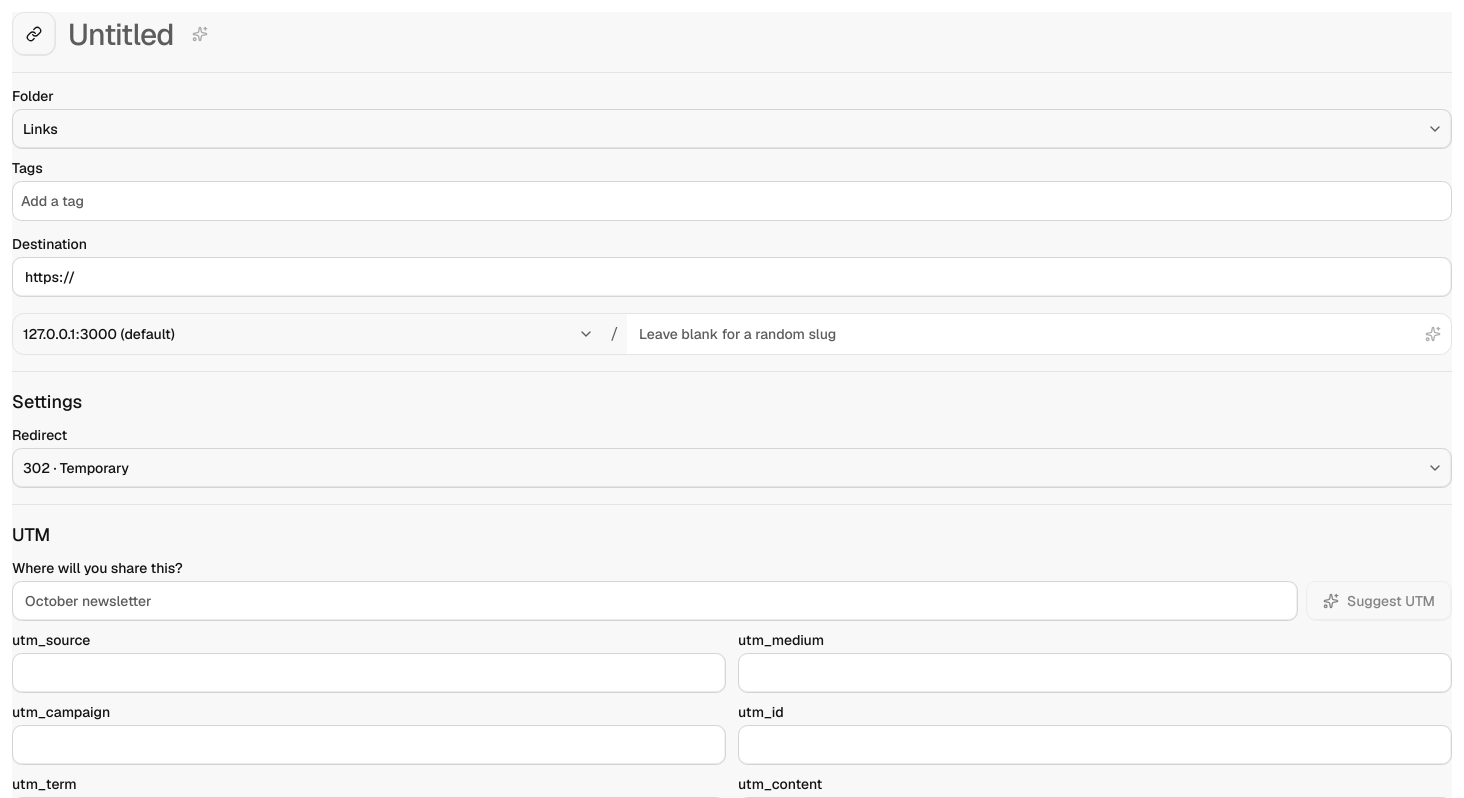
Test case: link editor suggestions › suggests a title from the sparkle beside the heading when AI is on
The width and height of the screenshot is (1464, 798).
Expected: the button named "Suggest a title" is disabled, [186,20,214,48]
Replace the text in the field labelled "Destination" with "https://example.org": [732, 277] box [12,257,1452,297]
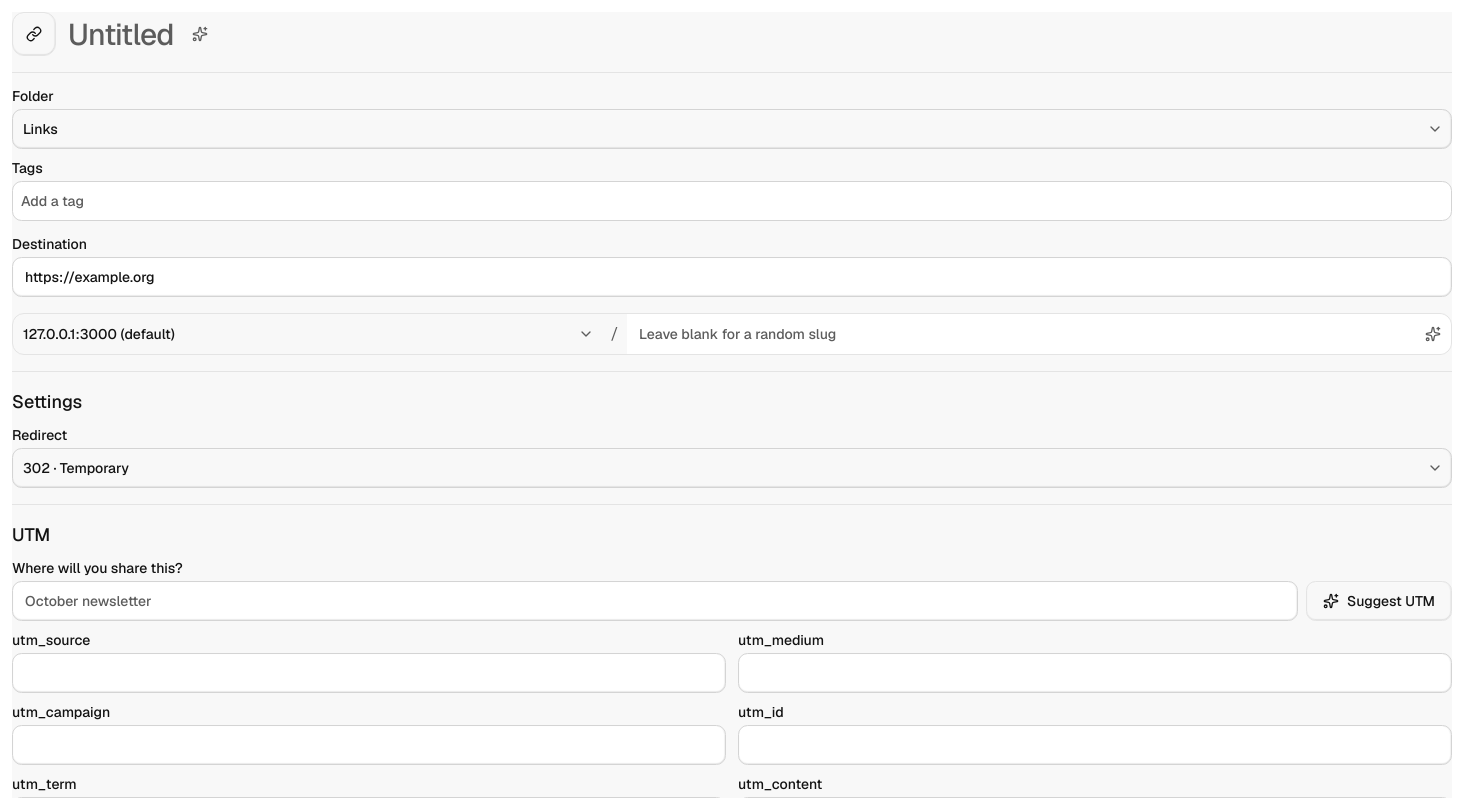
Expected: the button named "Suggest a title" is enabled
Click the button named "Suggest a title": [200, 34] box [186,20,214,48]
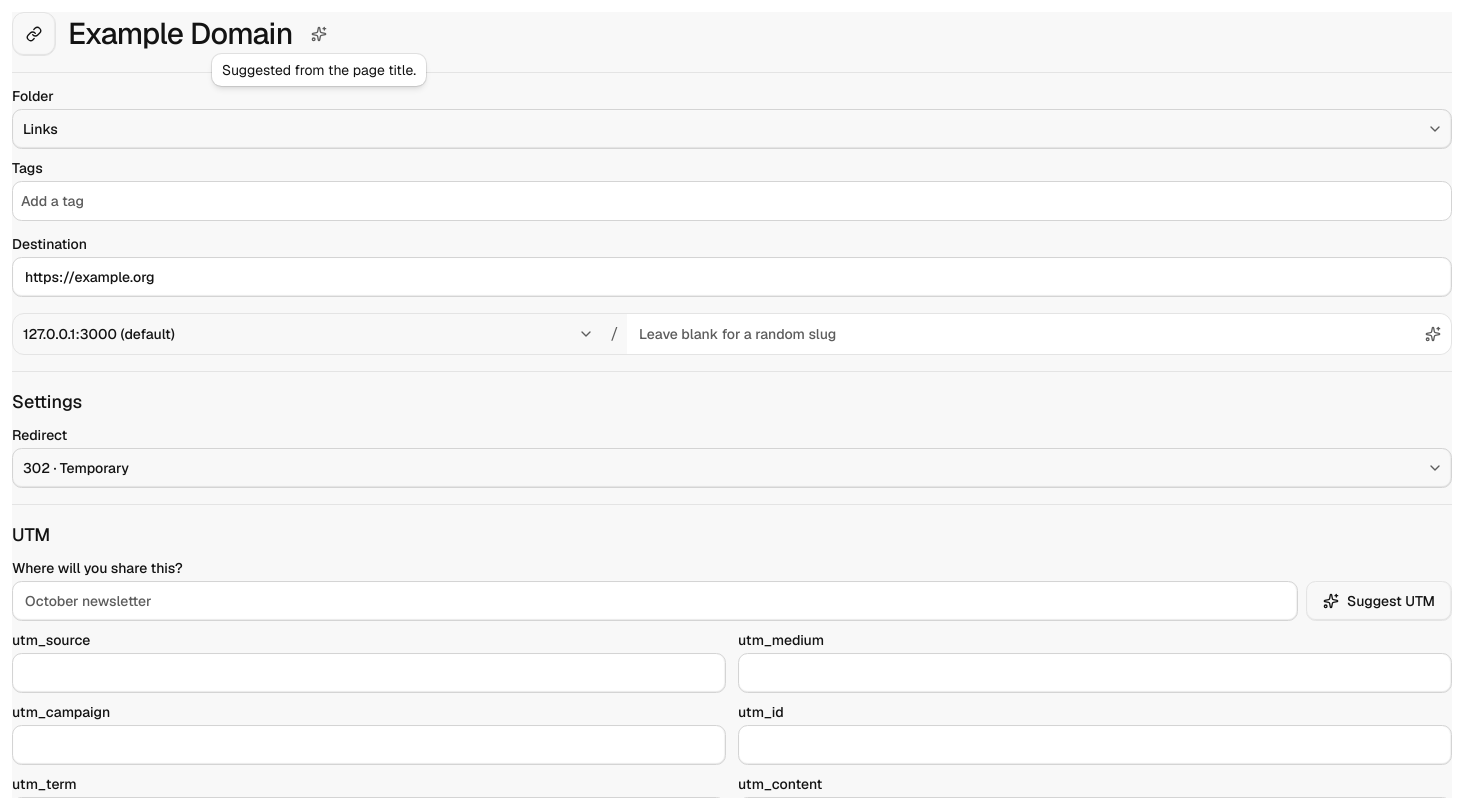
Expected: the tooltip "Suggested from the page title." is shown, [212,54,426,86]
